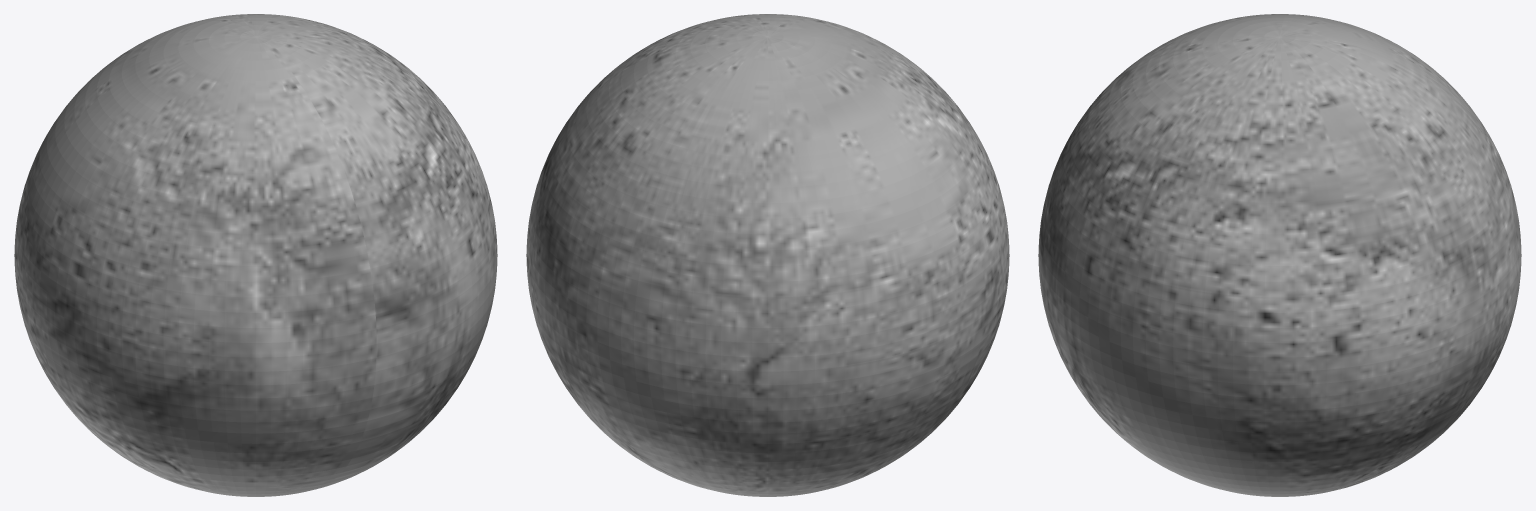
File: pluto.obj
The picture shows the model from 3 angles, left to right: view 1: azimuth 30°, elevation 25°; view 2: azimuth 150°, elevation 25°; view 3: azimuth 270°, elevation 25°; orthographic projection.
Parts seen in each view (by area): view 1: Sphere; view 2: Sphere; view 3: Sphere.
Boxes of the visible parts, <box> form: Sphere: <box>14,14,497,496</box>; Sphere: <box>526,14,1009,496</box>; Sphere: <box>1038,14,1521,496</box>.
Size of the model in its own units: 2 by 2 by 2.
Materials: 1 (1 with a texture image).
